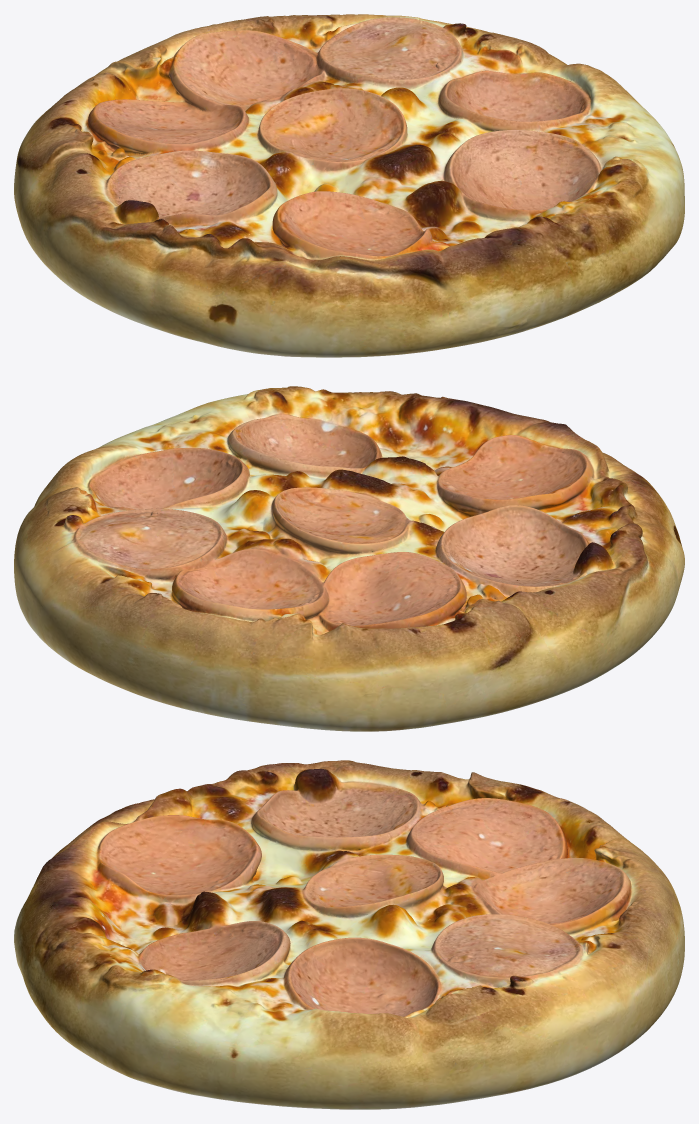
Rendered from Pepperoni_Pizza.glb.
3 views of the same model, one above another, from view 1: azimuth 30°, elevation 25°; view 2: azimuth 150°, elevation 25°; view 3: azimuth 270°, elevation 25° (orthographic).
Size of the model in its own units: 1.9 by 0.3109 by 1.87.
Materials: 1 (1 with a texture image).
